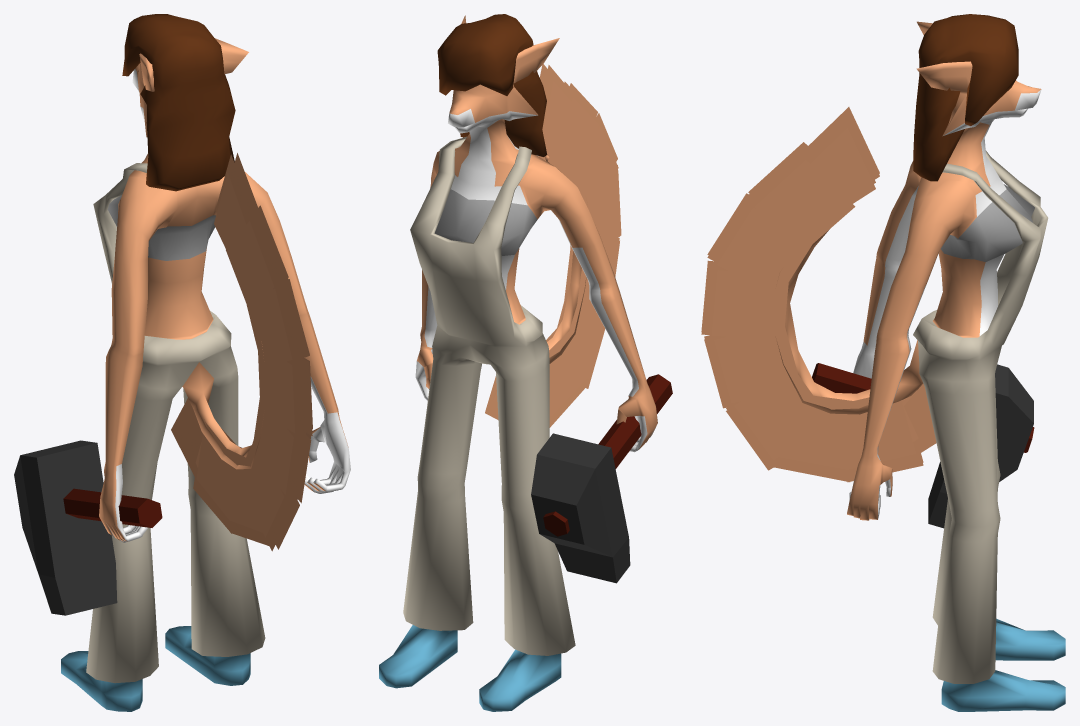
The model's file is cassandra.fbx.
The picture shows the model from 3 angles, left to right: view 1: azimuth 30°, elevation 25°; view 2: azimuth 150°, elevation 25°; view 3: azimuth 270°, elevation 25°; orthographic projection. The views are drawn at different scales.
Parts seen in each view (by area): view 1: Cassandra, peloCola, martillo, cabelloCassandra; view 2: Cassandra, peloCola, martillo, cabelloCassandra; view 3: Cassandra, peloCola, cabelloCassandra, martillo.
Part boxes in pixels (box(x1,y1,x2,y2)): Cassandra: box(61, 38, 350, 711); peloCola: box(171, 153, 312, 551); martillo: box(14, 440, 162, 615); cabelloCassandra: box(122, 14, 235, 191); Cassandra: box(379, 15, 657, 711); peloCola: box(485, 64, 621, 427); martillo: box(531, 374, 672, 583); cabelloCassandra: box(437, 14, 547, 156); Cassandra: box(776, 21, 1065, 711); peloCola: box(701, 107, 936, 482); cabelloCassandra: box(913, 14, 1018, 181); martillo: box(812, 363, 1034, 528).
Bounding box in the file's own units: 7.34 × 18.51 × 9.29.
